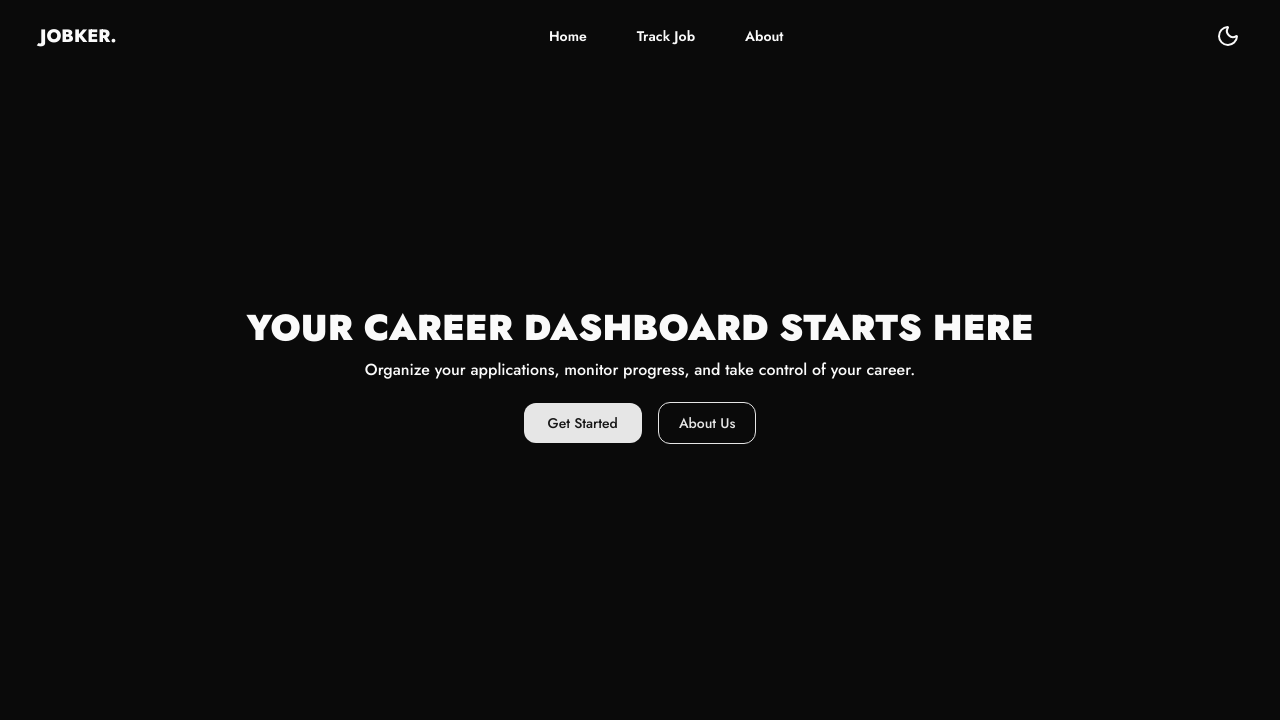
Scenario: Navbar component › navigates to about page when about link is clicked
Click the link "About" at coordinates (764, 36), box [745,26,784,46]
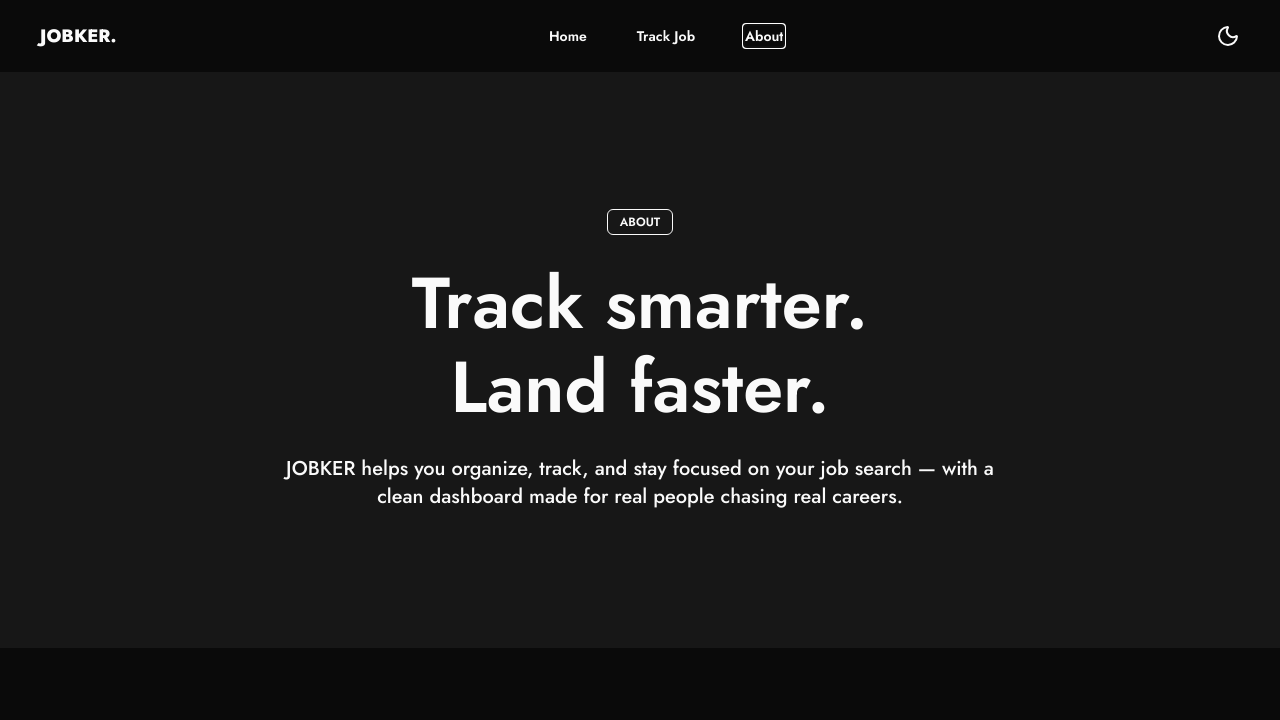
Check: the text "Track smarter." is shown, box [412,267,868,339]
